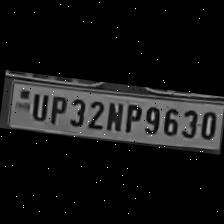0: (195, 106, 218, 140)
2: (82, 96, 106, 130)
3: (64, 94, 86, 128), (176, 106, 198, 140)
6: (158, 104, 181, 136)
9: (138, 101, 161, 135)
N: (101, 98, 124, 132)
P: (119, 99, 142, 134), (43, 92, 66, 124)
U: (25, 90, 48, 122)
